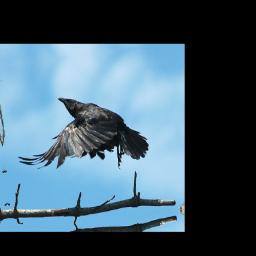Crow: (11, 85, 149, 183)
